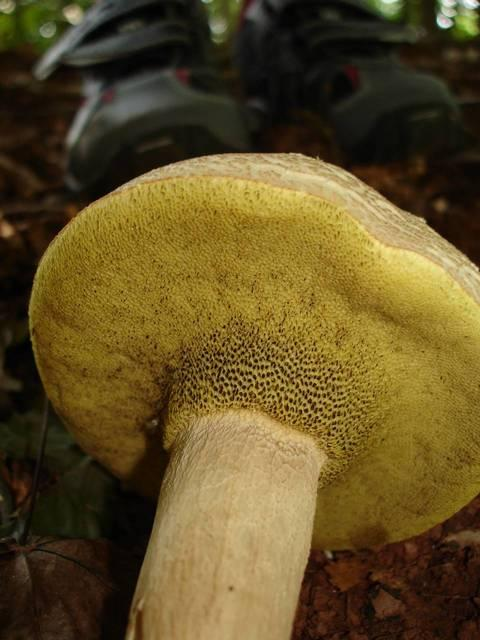Edible Mushroom: (26, 149, 479, 639)
